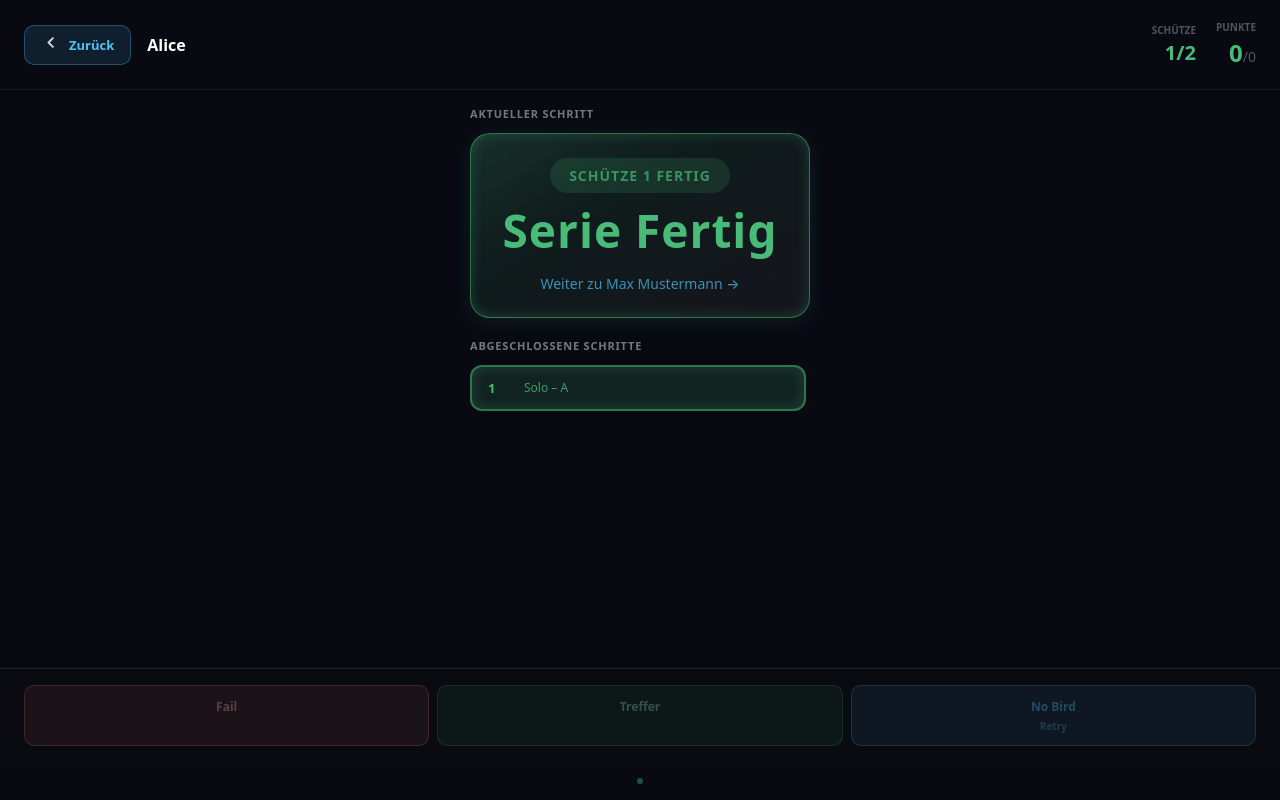
Test case: ShooterPlayPage — Nächster Schütze overlay › tapping the Getroffen card in multi-player shows the overlay instead of advancing
Step 1. Click the element with class "getroffen-card" → (640,225), box [470,133,810,318]
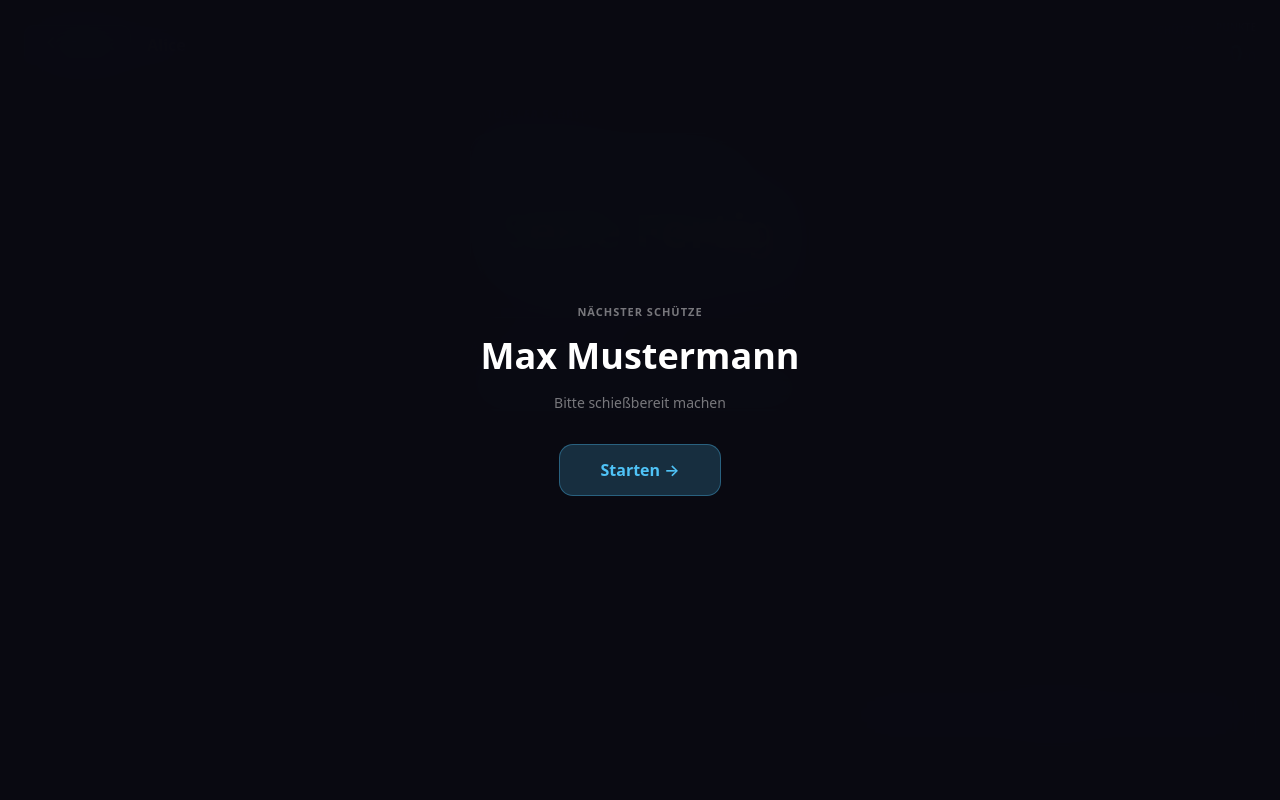
Expected: the element with class "next-shooter-overlay" is shown
